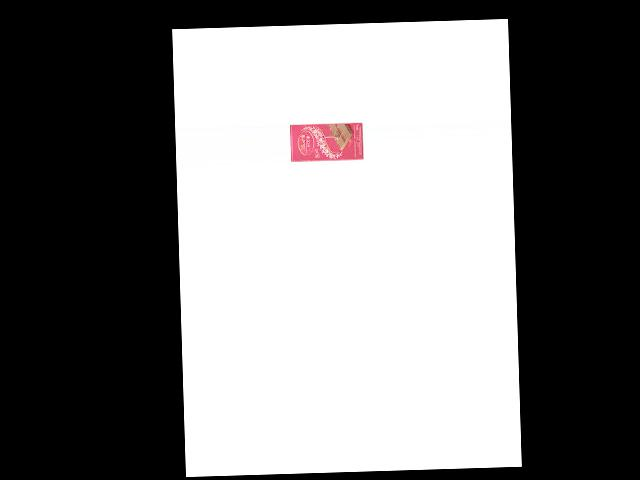chocolate: (290, 118, 363, 163)
